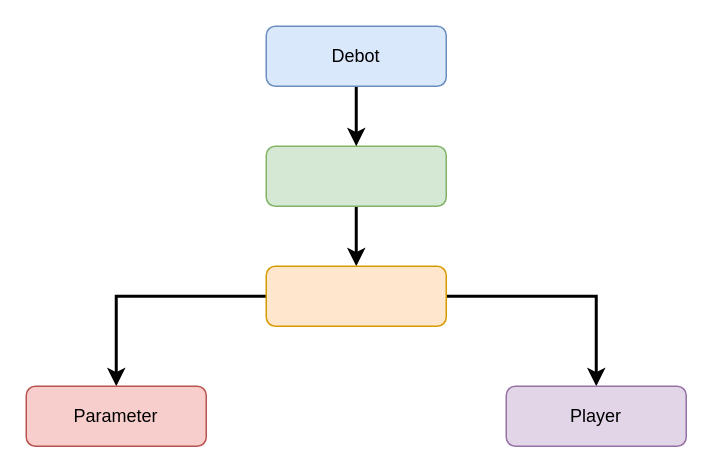
Image size: 713x473. Some labels were removed from this diagram. Each missing label, with the centre of its shape:
Lobby: the point at 355,175
Track: the point at 355,295
